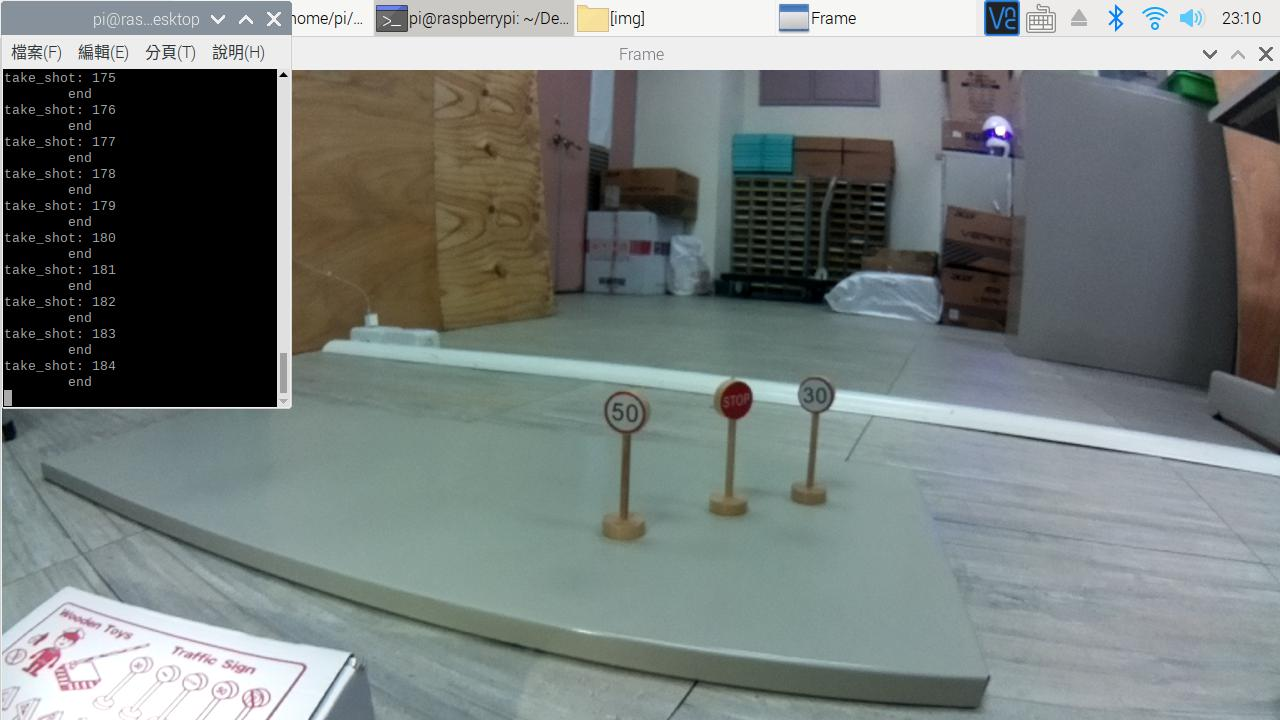Speed30: (794, 369, 840, 421)
Speed50: (600, 382, 648, 440)
Stop: (711, 377, 761, 426)
